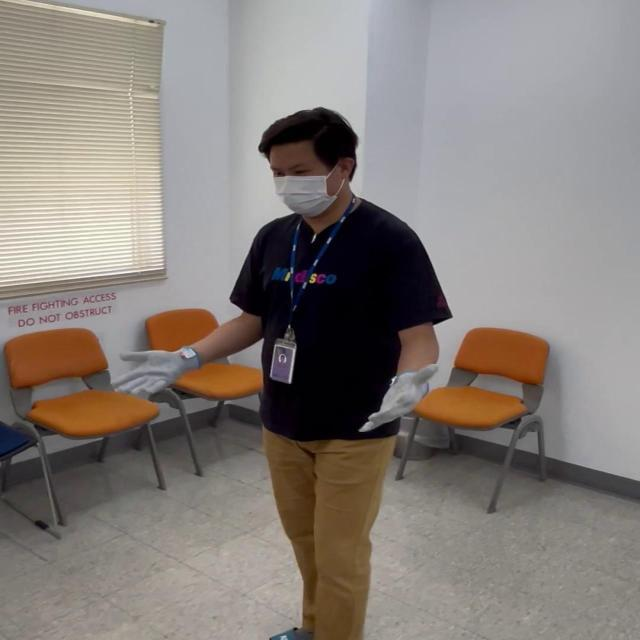gloved_hand: (120, 336, 203, 404), (356, 364, 446, 426)
